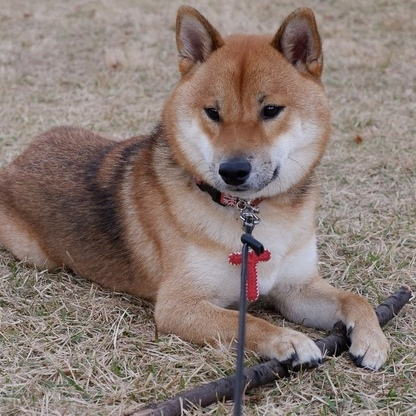shiba: (1, 1, 397, 377)
